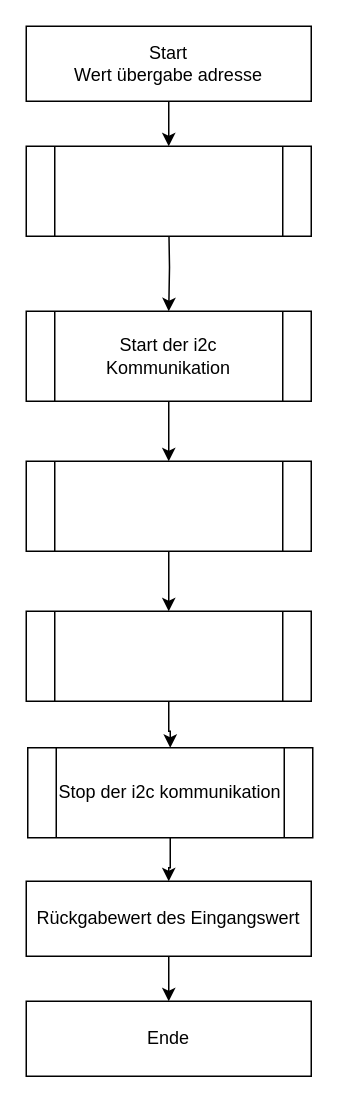
The diagram is 339 pixels wide and 1103 high, and some of its shapes have lost their labels. The centre of each missing label's shape, as x and y in pixels:
"i2c_Initalisierung();" belongs at point (168, 190).
"Lesen des Eingangswert" belongs at point (168, 655).
"Sende der Adresse (lesemodus)" belongs at point (168, 505).
